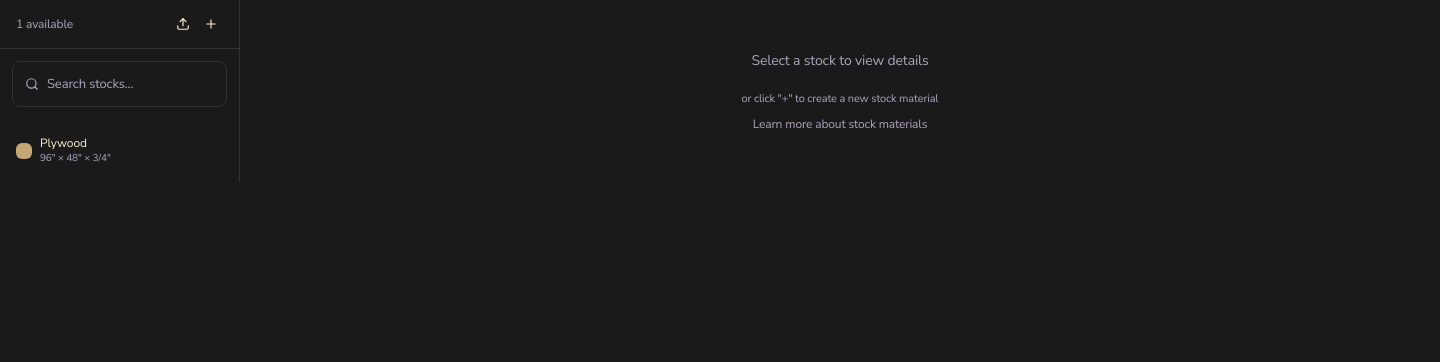
Scenario: StocksTab › stock selection › shows board foot pricing label
The image size is (1440, 362).
Click the text "Plywood". click: (63, 143)
box: [40, 135, 87, 151]
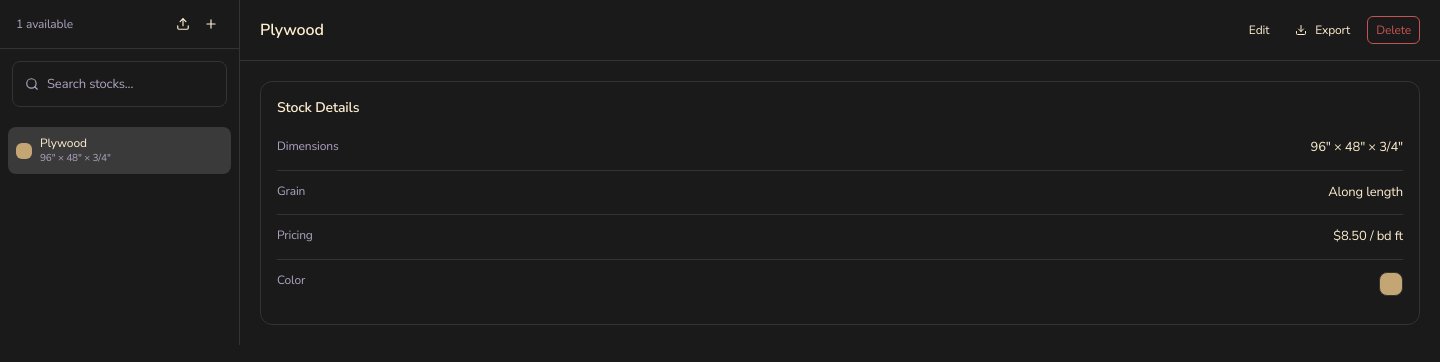
Expected: the text "$8.50 / bd ft" is shown, [1333, 227, 1403, 246]
